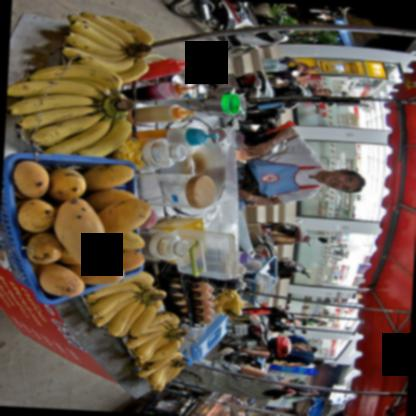backpack: (237, 108, 280, 125), (286, 334, 307, 344)
